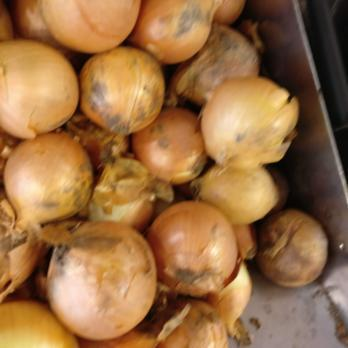Onion: (0, 1, 294, 348)
